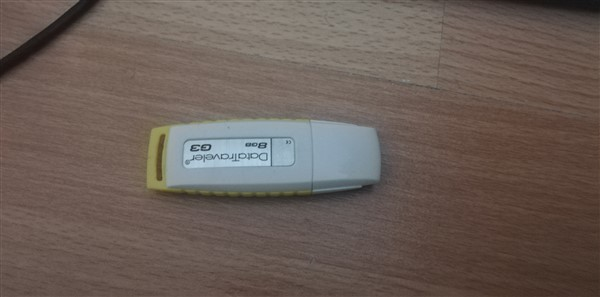flash disk: (140, 116, 386, 201)
